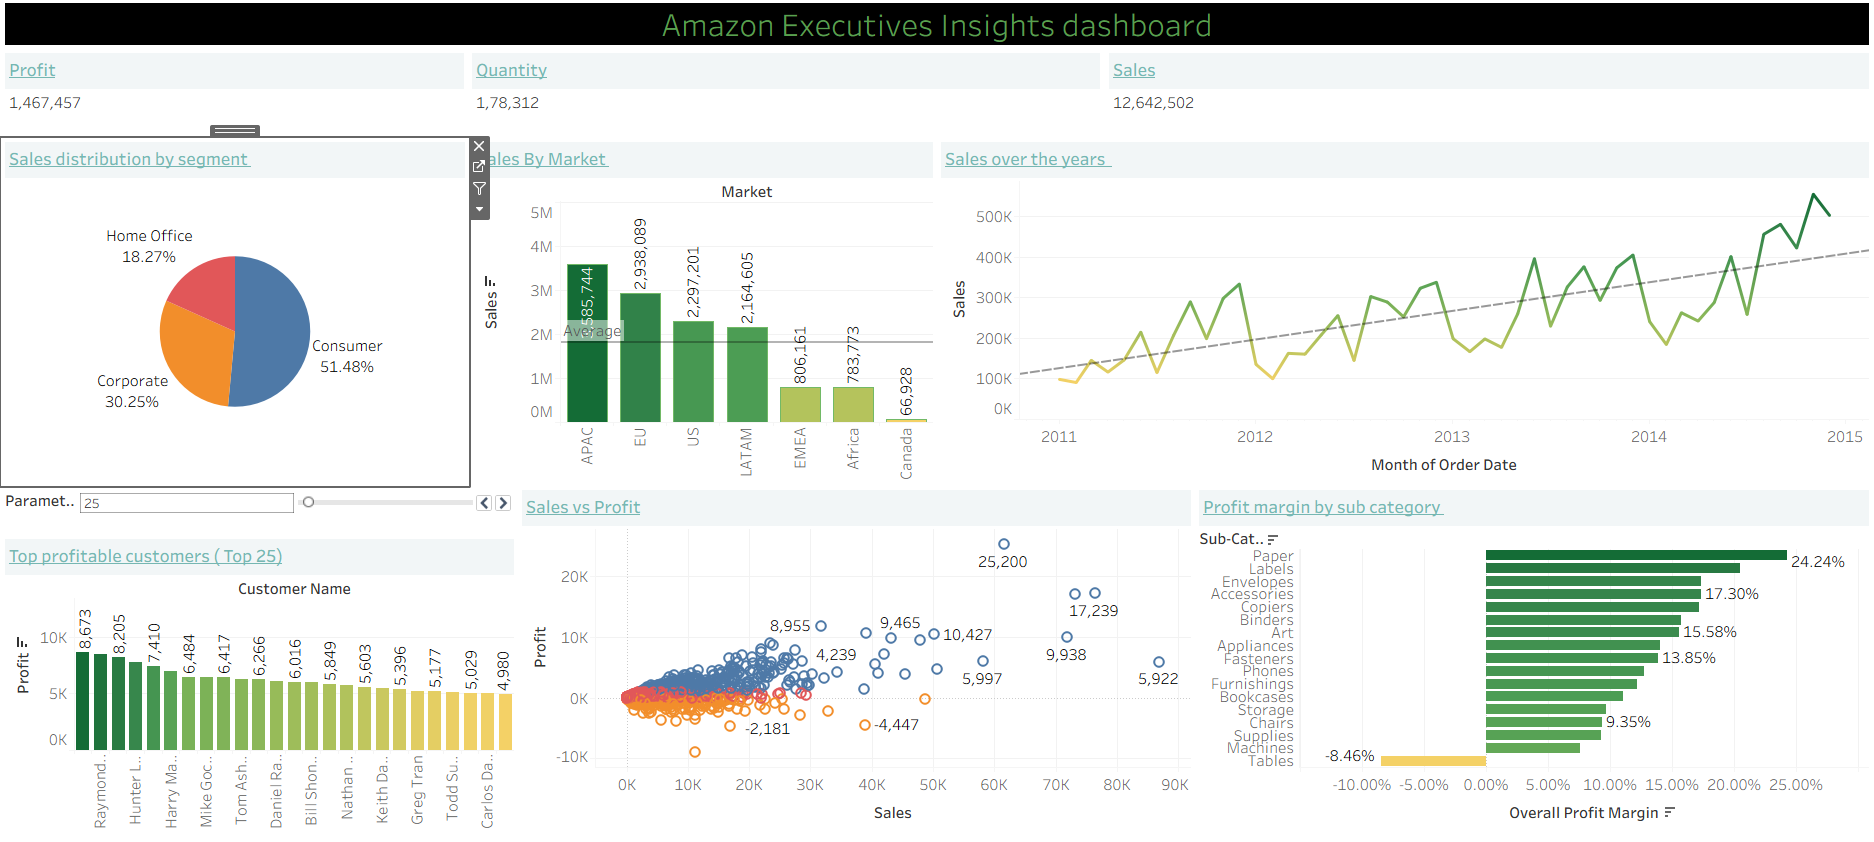

What the dashboard file says about the page in this screenshot:
{"tool":"tableau","page":{"name":"Amazon Executives Insights dashboard","canvas":[1000,1000],"units":"permille","ordinal":0},"visuals":[{"type":"title","box":[5.3,9.4,989.5,58.8]},{"type":"worksheet","title":"Profit","mark":"Automatic","box":[5.3,68.2,247.1,104.1]},{"type":"worksheet","title":"Quantity","mark":"Automatic","box":[252.3,68.2,336.4,104.1]},{"type":"worksheet","title":"Sales","mark":"Automatic","box":[588.8,68.2,406,104.1]},{"type":"worksheet","title":"Sales distribution by segment ","mark":"Pie","box":[5.3,172.3,247.2,409.2]},{"type":"worksheet","title":"Sales By Market ","mark":"Automatic","rows":["Sales"],"cols":["Market"],"box":[252.5,172.3,247.4,409.2]},{"type":"worksheet","title":"Sales over the years  ","mark":"Automatic","rows":["Sales"],"cols":["Order Date"],"box":[499.9,172.3,494.9,409.2]},{"type":"parameter","param":"[Parameters].[Parameter 0440695925116929]","box":[5.3,581.4,273.3,57.8]},{"type":"worksheet","title":"Sales vs Profit","mark":"Automatic","rows":["Profit"],"cols":["Sales"],"box":[278.6,581.4,358.1,409.2]},{"type":"worksheet","title":"Profit margin by sub category ","mark":"Automatic","rows":["Sub-Category"],"cols":["Calculation_0440696019312644"],"box":[636.6,581.4,358.1,409.2]},{"type":"worksheet","title":"Top profitable customers ","mark":"Automatic","rows":["Profit"],"cols":["Customer Name"],"box":[5.3,639.2,273.3,351.4]}]}

Visuals, with their boxes on the dashboard's canvas, which has no fixed pixel size, in thousandths of its width and height (x1, y1, x2, y2). These are canvas units, not pixel positions in the 1874x842 screenshot, which may show the page scaled, cropped or inside an application window:
title: locate(5, 9, 995, 68)
"Profit" worksheet: locate(5, 68, 252, 172)
"Quantity" worksheet: locate(252, 68, 589, 172)
"Sales" worksheet: locate(589, 68, 995, 172)
"Sales distribution by segment " worksheet (Pie marks): locate(5, 172, 252, 582)
"Sales By Market " worksheet: locate(252, 172, 500, 582)
"Sales over the years  " worksheet: locate(500, 172, 995, 582)
parameter: locate(5, 581, 279, 639)
"Sales vs Profit" worksheet: locate(279, 581, 637, 991)
"Profit margin by sub category " worksheet: locate(637, 581, 995, 991)
"Top profitable customers " worksheet: locate(5, 639, 279, 991)
